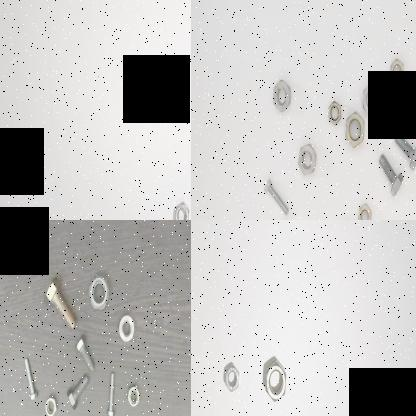Bolts: (44, 275, 74, 333), (376, 142, 406, 197), (260, 169, 290, 218), (391, 118, 416, 174), (64, 370, 88, 413), (20, 351, 38, 403), (72, 335, 96, 371), (105, 367, 115, 416)
NUTS: (260, 355, 288, 408), (84, 271, 109, 311), (344, 112, 368, 150), (295, 138, 317, 178), (219, 358, 242, 395), (116, 308, 137, 344), (270, 77, 290, 113), (361, 84, 382, 116), (386, 50, 404, 84), (324, 96, 340, 128), (124, 380, 140, 410), (172, 195, 189, 220), (42, 393, 58, 416), (355, 202, 369, 220)
